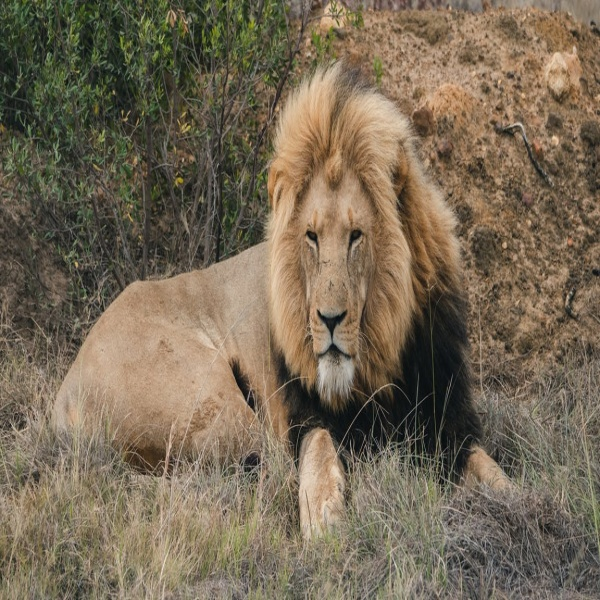Lion: (47, 59, 527, 553)
